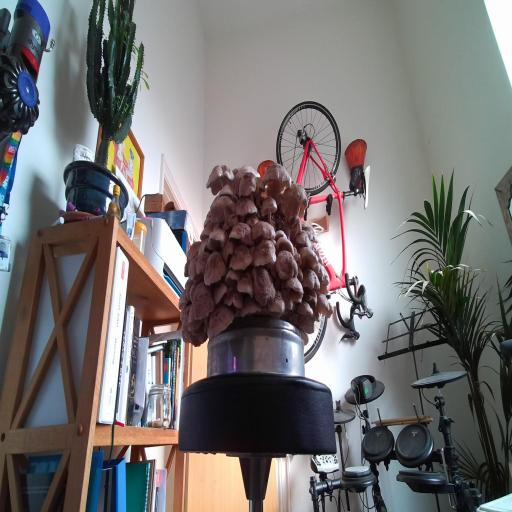Shiitake Mushroom: (252, 152, 301, 209), (273, 173, 320, 223), (179, 276, 220, 329), (195, 297, 244, 341), (196, 155, 243, 200), (219, 236, 261, 280), (247, 257, 279, 311), (196, 245, 231, 292), (174, 302, 208, 345), (202, 191, 242, 227), (226, 189, 265, 224), (185, 242, 212, 291), (232, 269, 260, 306), (255, 189, 282, 225), (273, 245, 299, 282), (263, 288, 291, 321), (297, 215, 323, 250), (177, 322, 209, 348), (206, 276, 233, 306), (252, 236, 277, 268), (310, 258, 333, 292), (278, 271, 309, 296), (215, 234, 240, 265), (216, 209, 243, 237), (247, 174, 269, 208), (181, 237, 207, 264), (227, 220, 255, 245), (313, 299, 340, 324), (238, 170, 259, 200), (294, 312, 320, 336), (297, 244, 320, 271), (237, 294, 264, 316), (301, 266, 322, 293), (240, 208, 263, 231), (251, 219, 276, 240), (281, 213, 302, 238), (224, 282, 244, 308), (314, 292, 332, 319), (274, 235, 297, 256), (196, 223, 218, 242), (225, 266, 243, 289), (296, 299, 314, 322), (280, 287, 295, 314), (235, 165, 261, 180), (186, 277, 201, 303), (209, 229, 228, 248), (182, 278, 195, 305), (215, 183, 235, 199), (176, 302, 191, 323), (292, 266, 308, 284), (295, 230, 311, 247), (198, 237, 213, 255), (272, 227, 290, 241), (298, 327, 311, 346), (287, 289, 304, 303), (202, 216, 218, 228), (315, 285, 329, 296), (178, 291, 185, 305), (184, 260, 189, 277), (177, 302, 186, 310), (315, 312, 321, 322)
